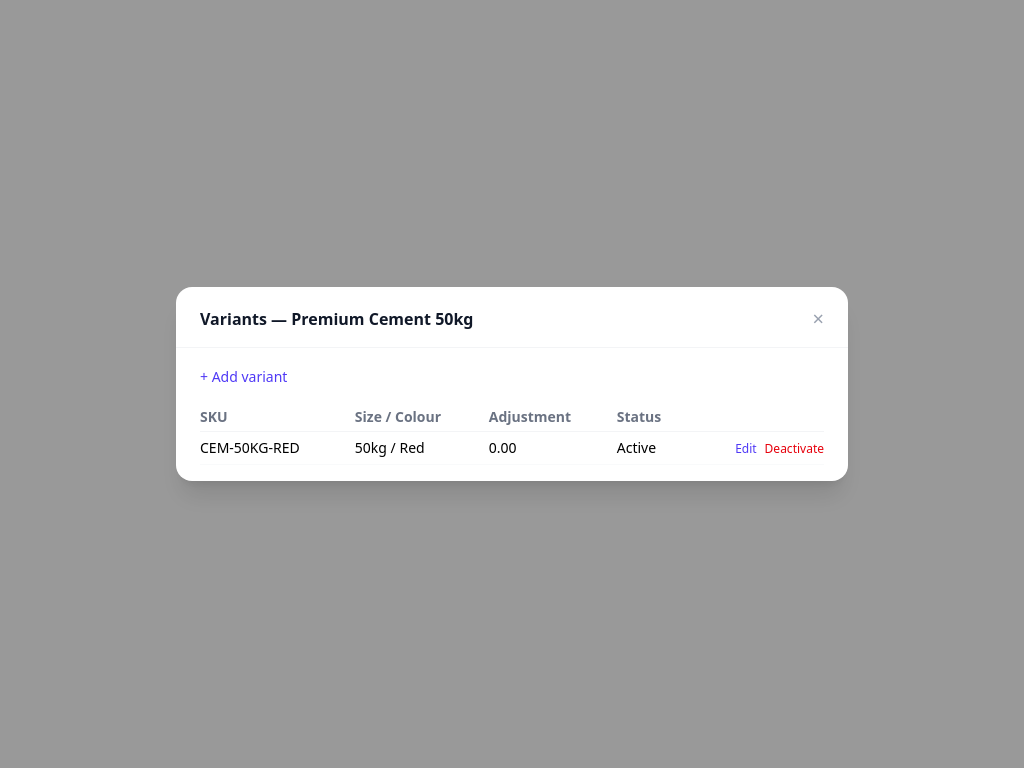
Scenario: ProductVariantsModal › deactivates a variant after confirmation
The width and height of the screenshot is (1024, 768).
Expected: the text "CEM-50KG-RED" is shown, [200,432,355,464]
Click the button "Deactivate": [794, 449] box [765,441,824,457]
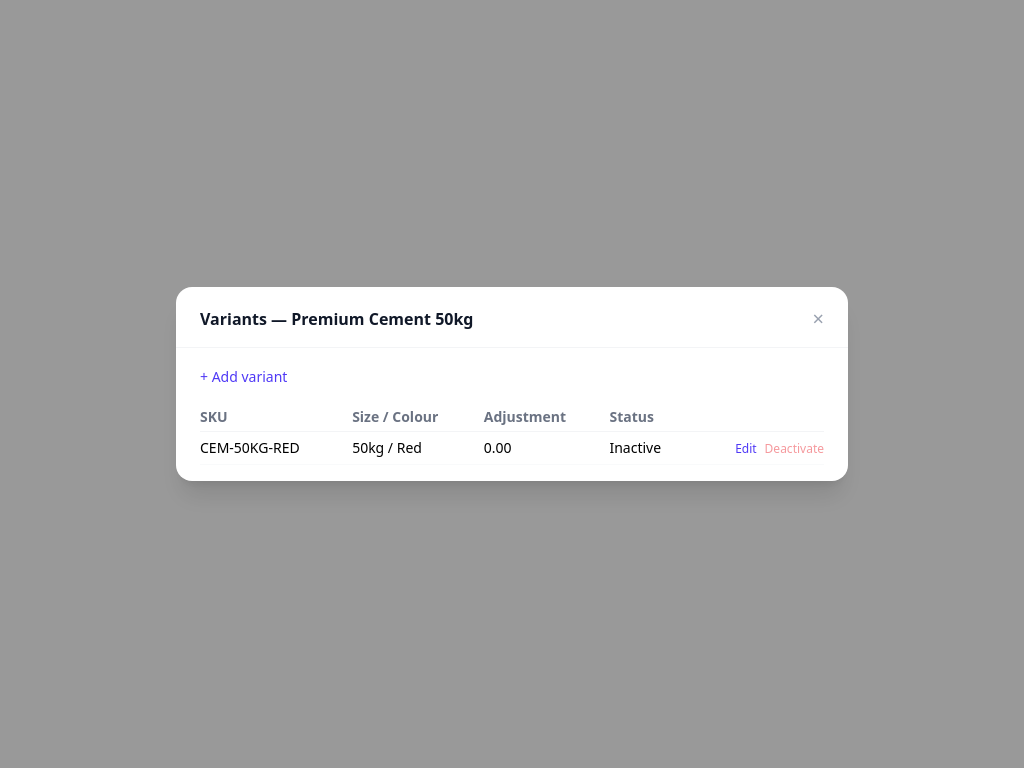
Expected: the text "Inactive" is shown, [609,432,688,464]
